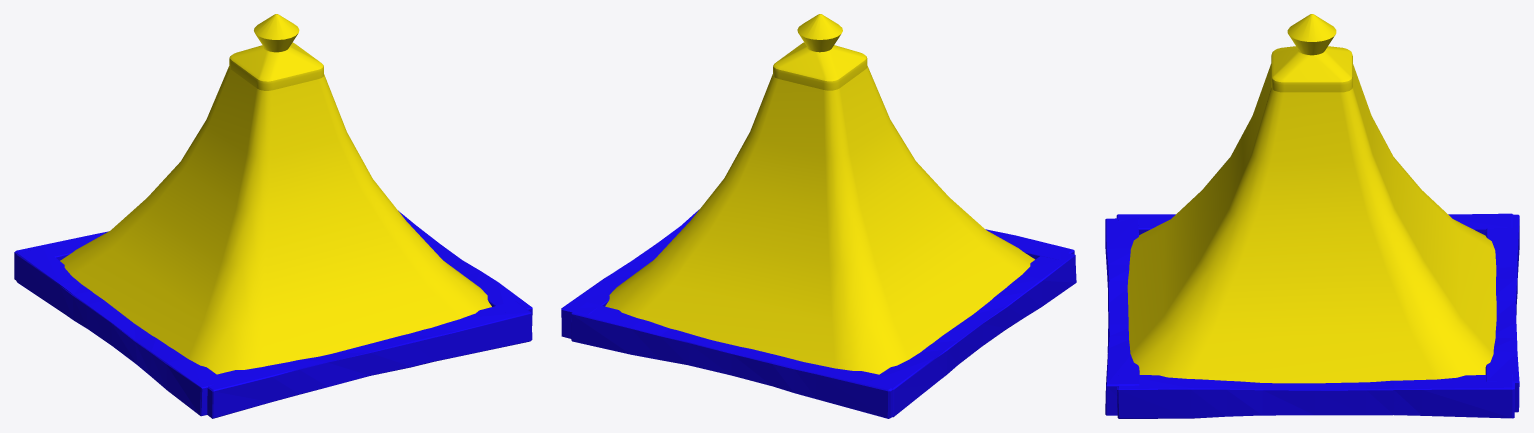
File: SM_Dragon_roof.fbx
The picture shows the model from 3 angles, left to right: view 1: azimuth 30°, elevation 25°; view 2: azimuth 150°, elevation 25°; view 3: azimuth 270°, elevation 25°; orthographic projection. The views are drawn at different scales.
Parts seen in each view (by area): view 1: Dragons_Roof; view 2: Dragons_Roof; view 3: Dragons_Roof.
Part boxes in pixels (x1,y1,x2,y2): Dragons_Roof: (14, 14, 532, 418); Dragons_Roof: (561, 14, 1076, 418); Dragons_Roof: (1105, 14, 1519, 418).
Size of the model in its own units: 123 by 105 by 123.
